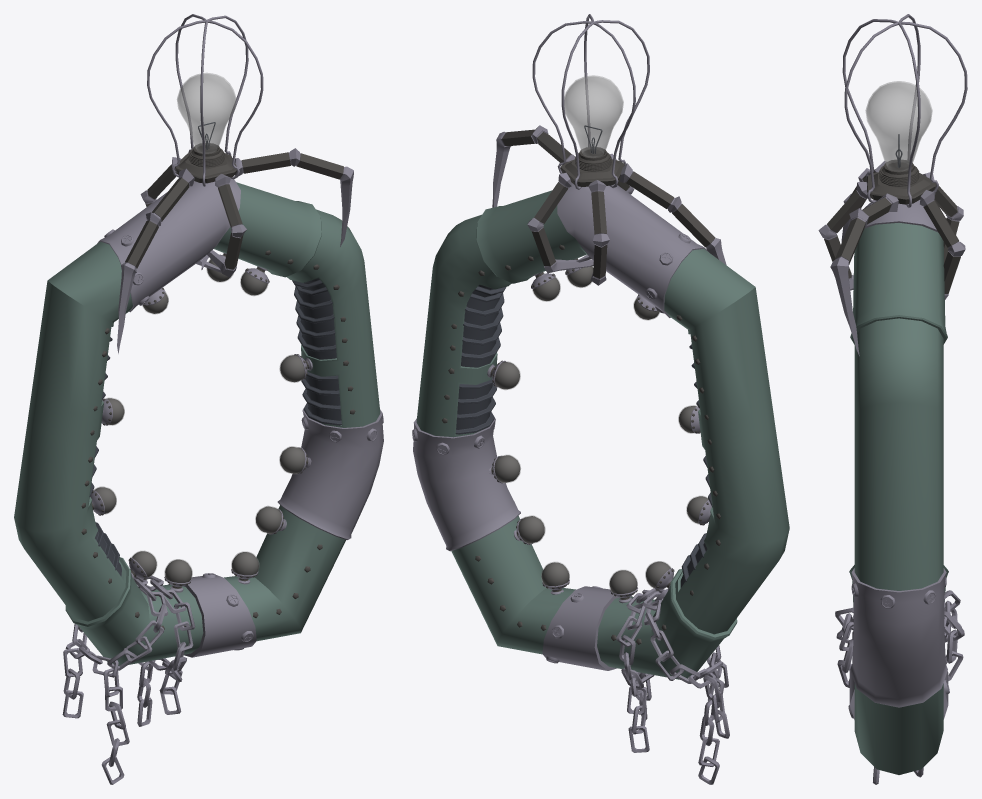
File: Ring_Glühbirne_01.fbx
3 renders of one model, left to right at view 1: azimuth 30°, elevation 25°; view 2: azimuth 150°, elevation 25°; view 3: azimuth 270°, elevation 25°, orthographic. The views are drawn at different scales.
Parts seen in each view (by area): view 1: Durchfliegring_01, Glühbirne_04_legs, Chainlink_01_hängend, KugelLampen_01_ring, Glühbirne_02_lamp, Glühbirne_05_draht, Glühbirne_01_stand, Schraube_01_bigKreuz, Schraube_02_manySmolls; view 2: Durchfliegring_01, Glühbirne_04_legs, KugelLampen_01_ring, Chainlink_01_hängend, Glühbirne_02_lamp, Glühbirne_05_draht, Glühbirne_01_stand, Schraube_01_bigKreuz, Schraube_02_manySmolls; view 3: Durchfliegring_01, Glühbirne_04_legs, Glühbirne_02_lamp, Glühbirne_05_draht, Chainlink_01_hängend, Glühbirne_01_stand, Schraube_01_bigKreuz.
Part boxes in pixels (x1=…): Durchfliegring_01: x1=14, y1=178, x2=383, y2=665; Glühbirne_04_legs: x1=117, y1=148, x2=353, y2=353; Chainlink_01_hängend: x1=62, y1=575, x2=195, y2=784; KugelLampen_01_ring: x1=90, y1=253, x2=312, y2=592; Glühbirne_02_lamp: x1=177, y1=73, x2=236, y2=153; Glühbirne_05_draht: x1=147, y1=14, x2=263, y2=186; Glühbirne_01_stand: x1=175, y1=143, x2=236, y2=183; Schraube_01_bigKreuz: x1=104, y1=229, x2=383, y2=650; Schraube_02_manySmolls: x1=81, y1=250, x2=355, y2=629; Durchfliegring_01: x1=413, y1=182, x2=789, y2=679; Glühbirne_04_legs: x1=492, y1=125, x2=726, y2=285; KugelLampen_01_ring: x1=487, y1=258, x2=711, y2=603; Chainlink_01_hängend: x1=616, y1=588, x2=729, y2=784; Glühbirne_02_lamp: x1=564, y1=75, x2=623, y2=157; Glühbirne_05_draht: x1=532, y1=14, x2=649, y2=189; Glühbirne_01_stand: x1=560, y1=147, x2=624, y2=186; Schraube_01_bigKreuz: x1=412, y1=233, x2=690, y2=663; Schraube_02_manySmolls: x1=442, y1=244, x2=720, y2=644; Durchfliegring_01: x1=849, y1=200, x2=948, y2=774; Glühbirne_04_legs: x1=818, y1=161, x2=965, y2=356; Glühbirne_02_lamp: x1=865, y1=81, x2=932, y2=171; Glühbirne_05_draht: x1=842, y1=14, x2=967, y2=207; Chainlink_01_hängend: x1=835, y1=590, x2=964, y2=784; Glühbirne_01_stand: x1=867, y1=160, x2=935, y2=204; Schraube_01_bigKreuz: x1=848, y1=577, x2=949, y2=718.
Size of the model in its own units: 315 by 614 by 101.
